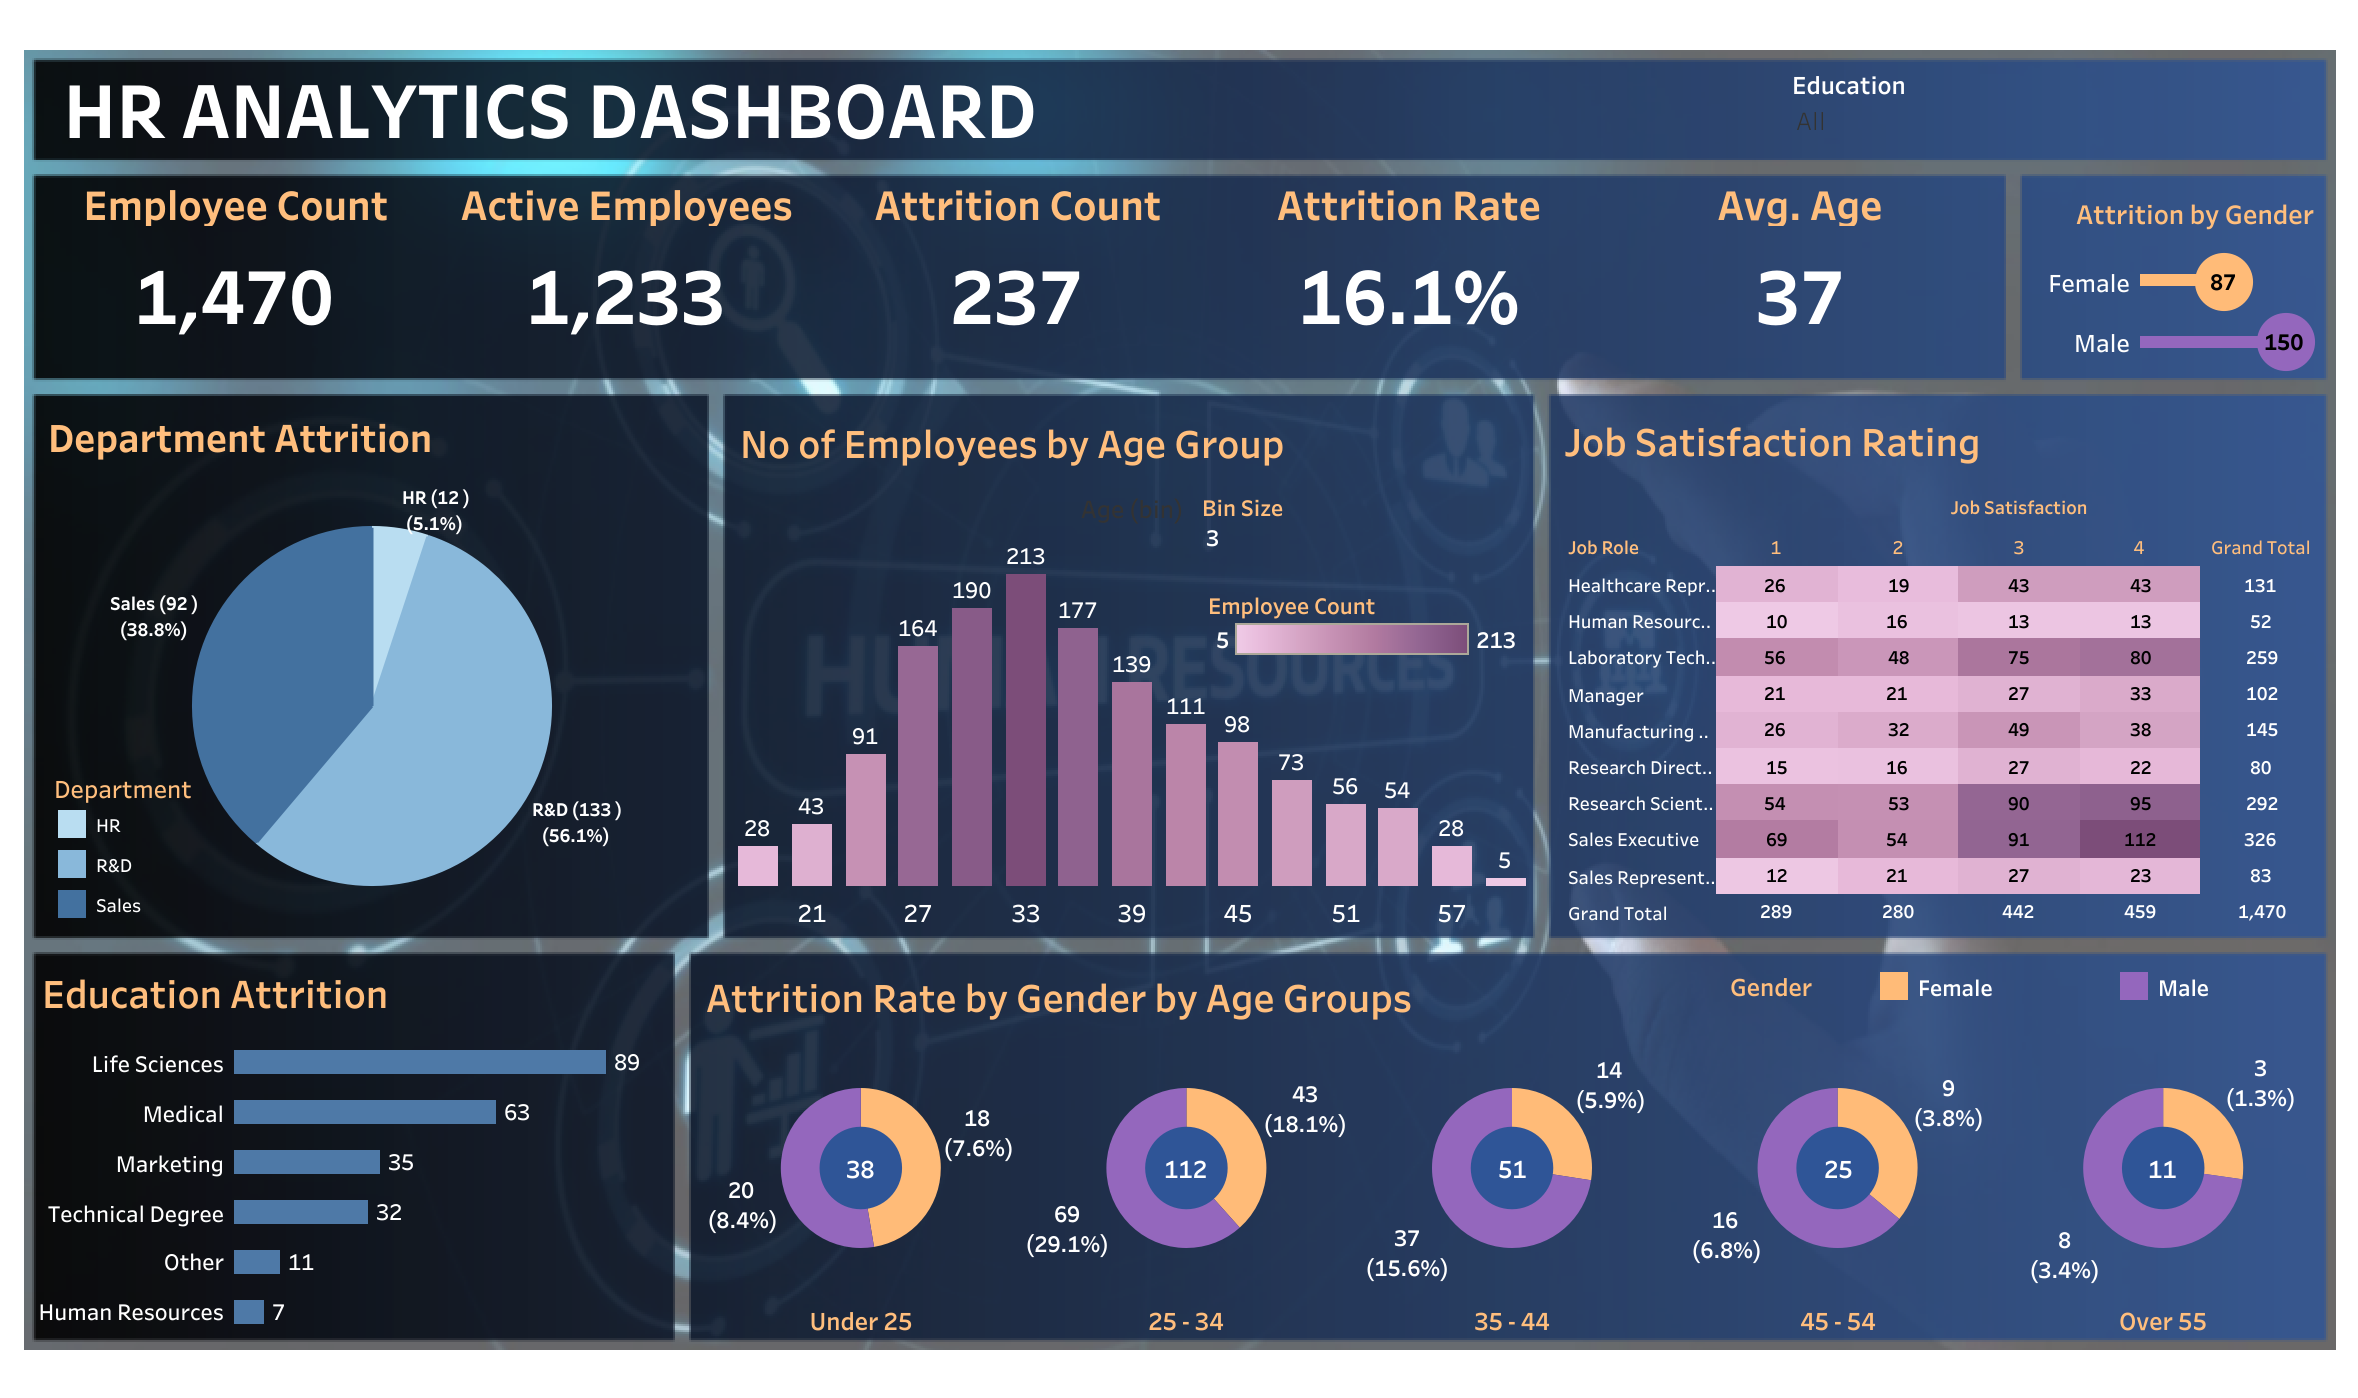

The page's visual inventory and layout, read from the dashboard file:
{"tool":"tableau","page":{"name":"HR Analytics Dashboard","canvas":[1180,700],"ordinal":0},"visuals":[{"type":"image","param":"Image/HR background.pptx.png","box":[8,8,1164,684]},{"type":"text","box":[29,32,639,43]},{"type":"filter","title":"Department Attrition","param":"[federated.0x2fsbc00jvcrt14kmpgf1rl0g4j].[none:Education:nk]","box":[896,32,262,47]},{"type":"worksheet","title":"Attrition by Gender","mark":"Automatic","rows":["Gender"],"cols":["Calculation_668784564438634496","Calculation_668784564438634496"],"box":[990,91,171,95]},{"type":"worksheet","title":"KPI","mark":"Automatic","box":[20,92,978,90]},{"type":"worksheet","title":"Department Attrition","mark":"Pie","box":[20,199,332,267]},{"type":"worksheet","title":"Job Satisfaction Rating","mark":"Square","rows":["Job Role"],"cols":["Job Satisfaction"],"box":[778,201,383,264]},{"type":"worksheet","title":"No of Employees by Age Group","mark":"Automatic","rows":["Employee Count"],"cols":["Age (bin)"],"box":[366,202,400,263]},{"type":"parameter","param":"[Parameters].[Parameter 1]","box":[601,245,160,46]},{"type":"legend","title":"No of Employees by Age Group","param":"[federated.0x2fsbc00jvcrt14kmpgf1rl0g4j].[sum:Employee Count:qk]","box":[604,291,159,45]},{"type":"legend","title":"Department Attrition","param":"[federated.0x2fsbc00jvcrt14kmpgf1rl0g4j].[none:Department:nk]","box":[26,383,140,78]},{"type":"worksheet","title":"Education Attrition","mark":"Automatic","rows":["Education Field"],"cols":["Calculation_668784564438634496"],"box":[17,477,317,191]},{"type":"worksheet","title":"Attrition Rate by Gender by Age Groups","mark":"Pie","rows":["Calculation_668784564477726724","Calculation_668784564477726724"],"cols":["CF_age band"],"box":[349,479,815,190]}]}

Visuals, with their boxes in screenshot pixels (x1, y1, x2, y2), scaled from the page's 1180x700 canvas onto the 2358x1398 screenshot:
image: BBox(16, 16, 2342, 1382)
text: BBox(58, 64, 1335, 150)
"Department Attrition" filter: BBox(1790, 64, 2314, 158)
"Attrition by Gender" worksheet: BBox(1978, 182, 2320, 371)
"KPI" worksheet: BBox(40, 184, 1994, 363)
"Department Attrition" worksheet (Pie marks): BBox(40, 397, 703, 931)
"Job Satisfaction Rating" worksheet (Square marks): BBox(1555, 401, 2320, 929)
"No of Employees by Age Group" worksheet: BBox(731, 403, 1531, 929)
parameter: BBox(1201, 489, 1521, 581)
"No of Employees by Age Group" legend: BBox(1207, 581, 1525, 671)
"Department Attrition" legend: BBox(52, 765, 332, 921)
"Education Attrition" worksheet: BBox(34, 953, 667, 1334)
"Attrition Rate by Gender by Age Groups" worksheet (Pie marks): BBox(697, 957, 2326, 1336)
